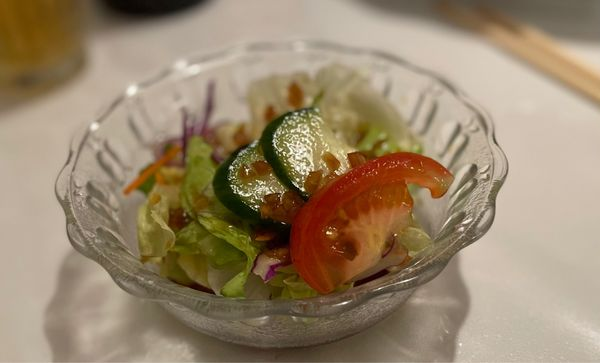sushi: (56, 42, 485, 351)
